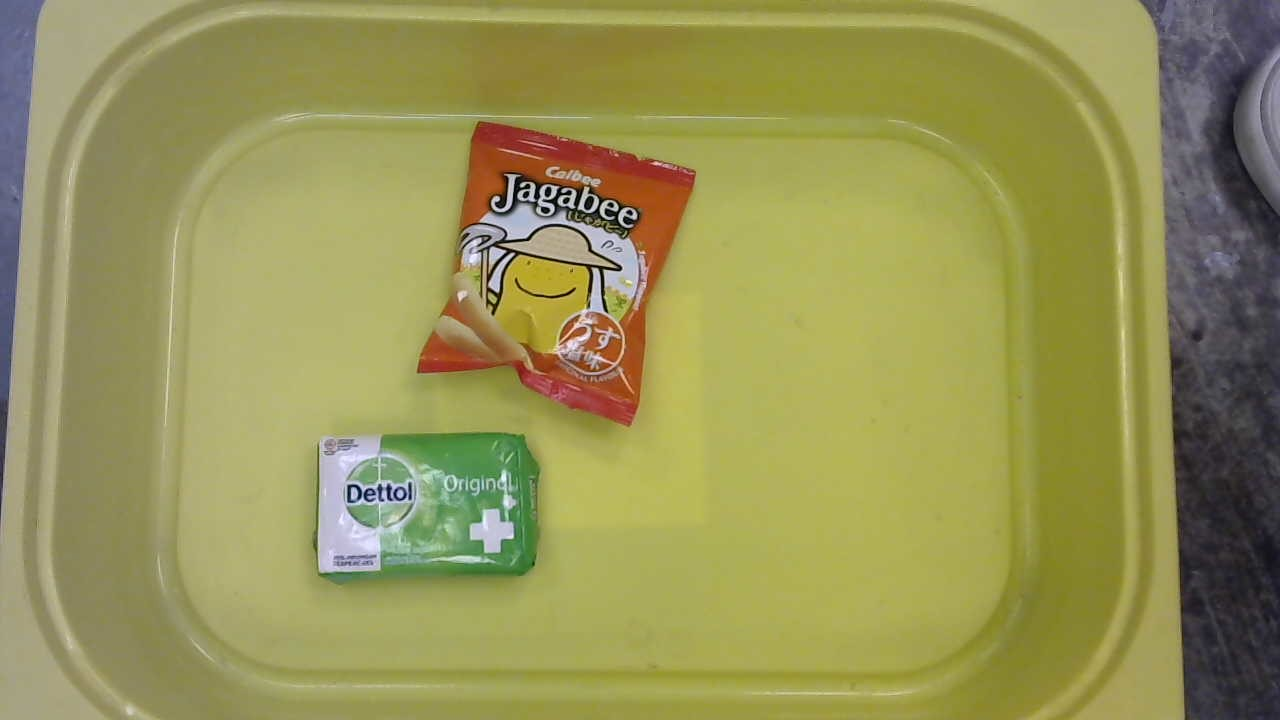Dettol: (310, 433, 538, 585)
JagabeeFarmer: (417, 117, 698, 427)
